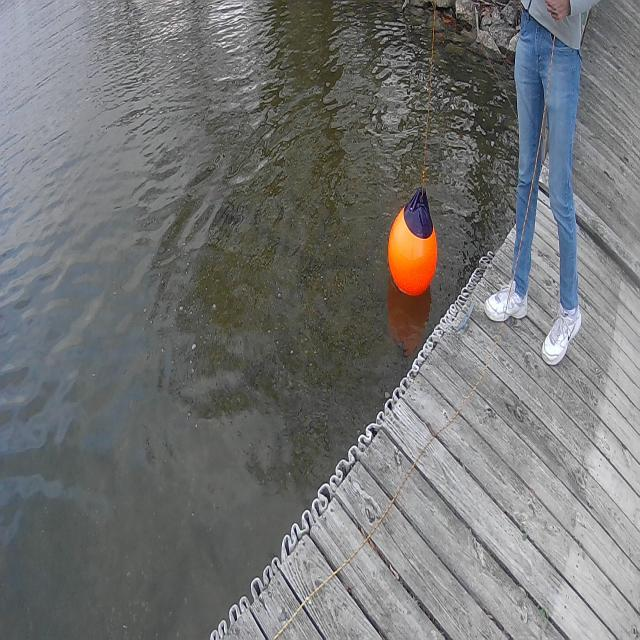Buoy: (382, 176, 440, 301)
